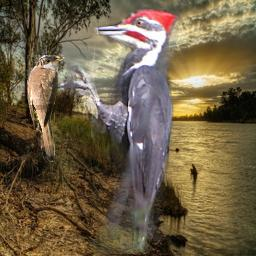Cuckoo: (27, 55, 65, 162)
Woodpecker: (55, 9, 181, 254)
